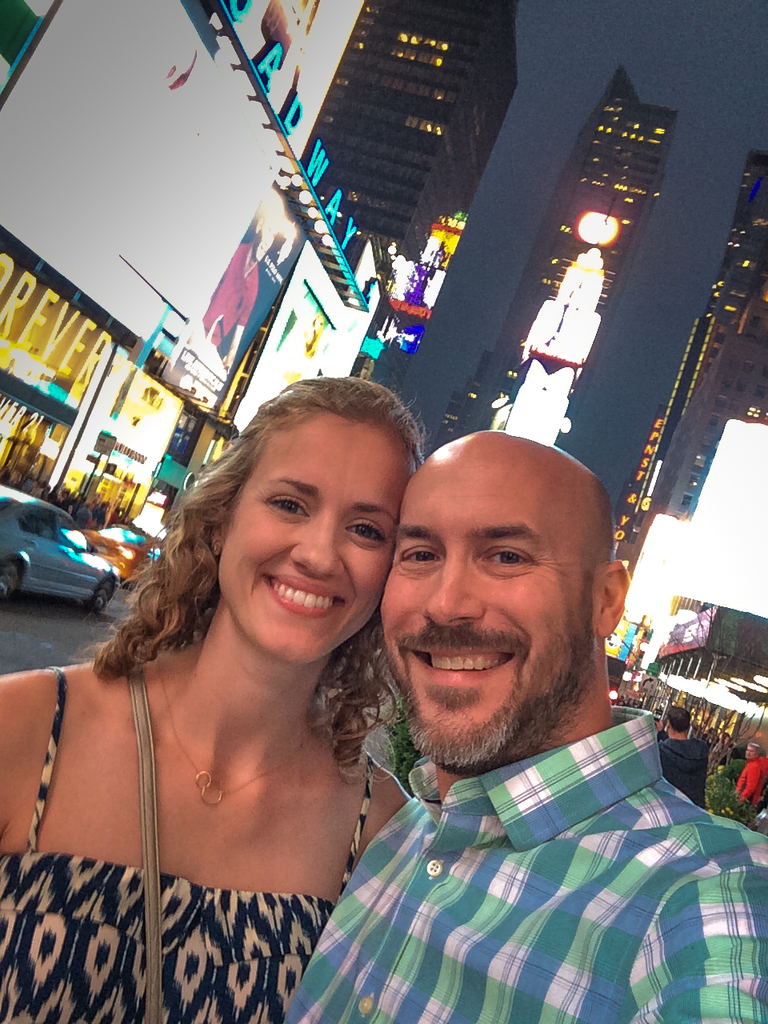Car: (0, 487, 150, 620)
